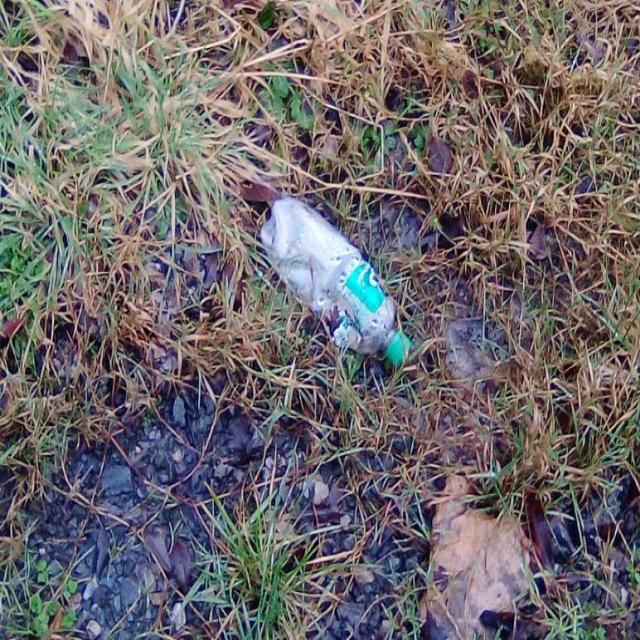bottle: (257, 178, 418, 392)
